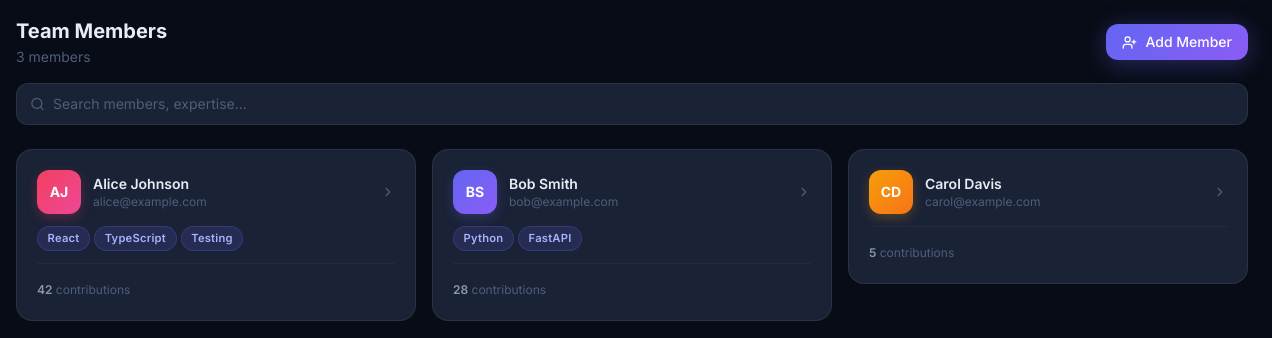
Test case: MemberList › filters members by expertise tag
Check: the text "Alice Johnson" is shown, box [93, 175, 189, 192]
Type "Python" into the field with placeholder "Search members, expertise..." at (632, 104), box [16, 83, 1248, 125]
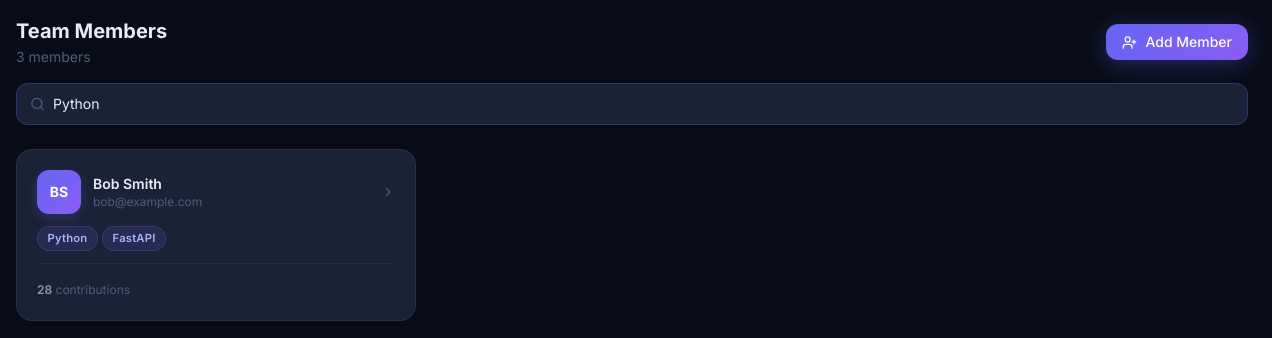
Check: the text "Bob Smith" is shown, box [93, 175, 162, 192]
Check: the link "Alice Johnson" is gone
